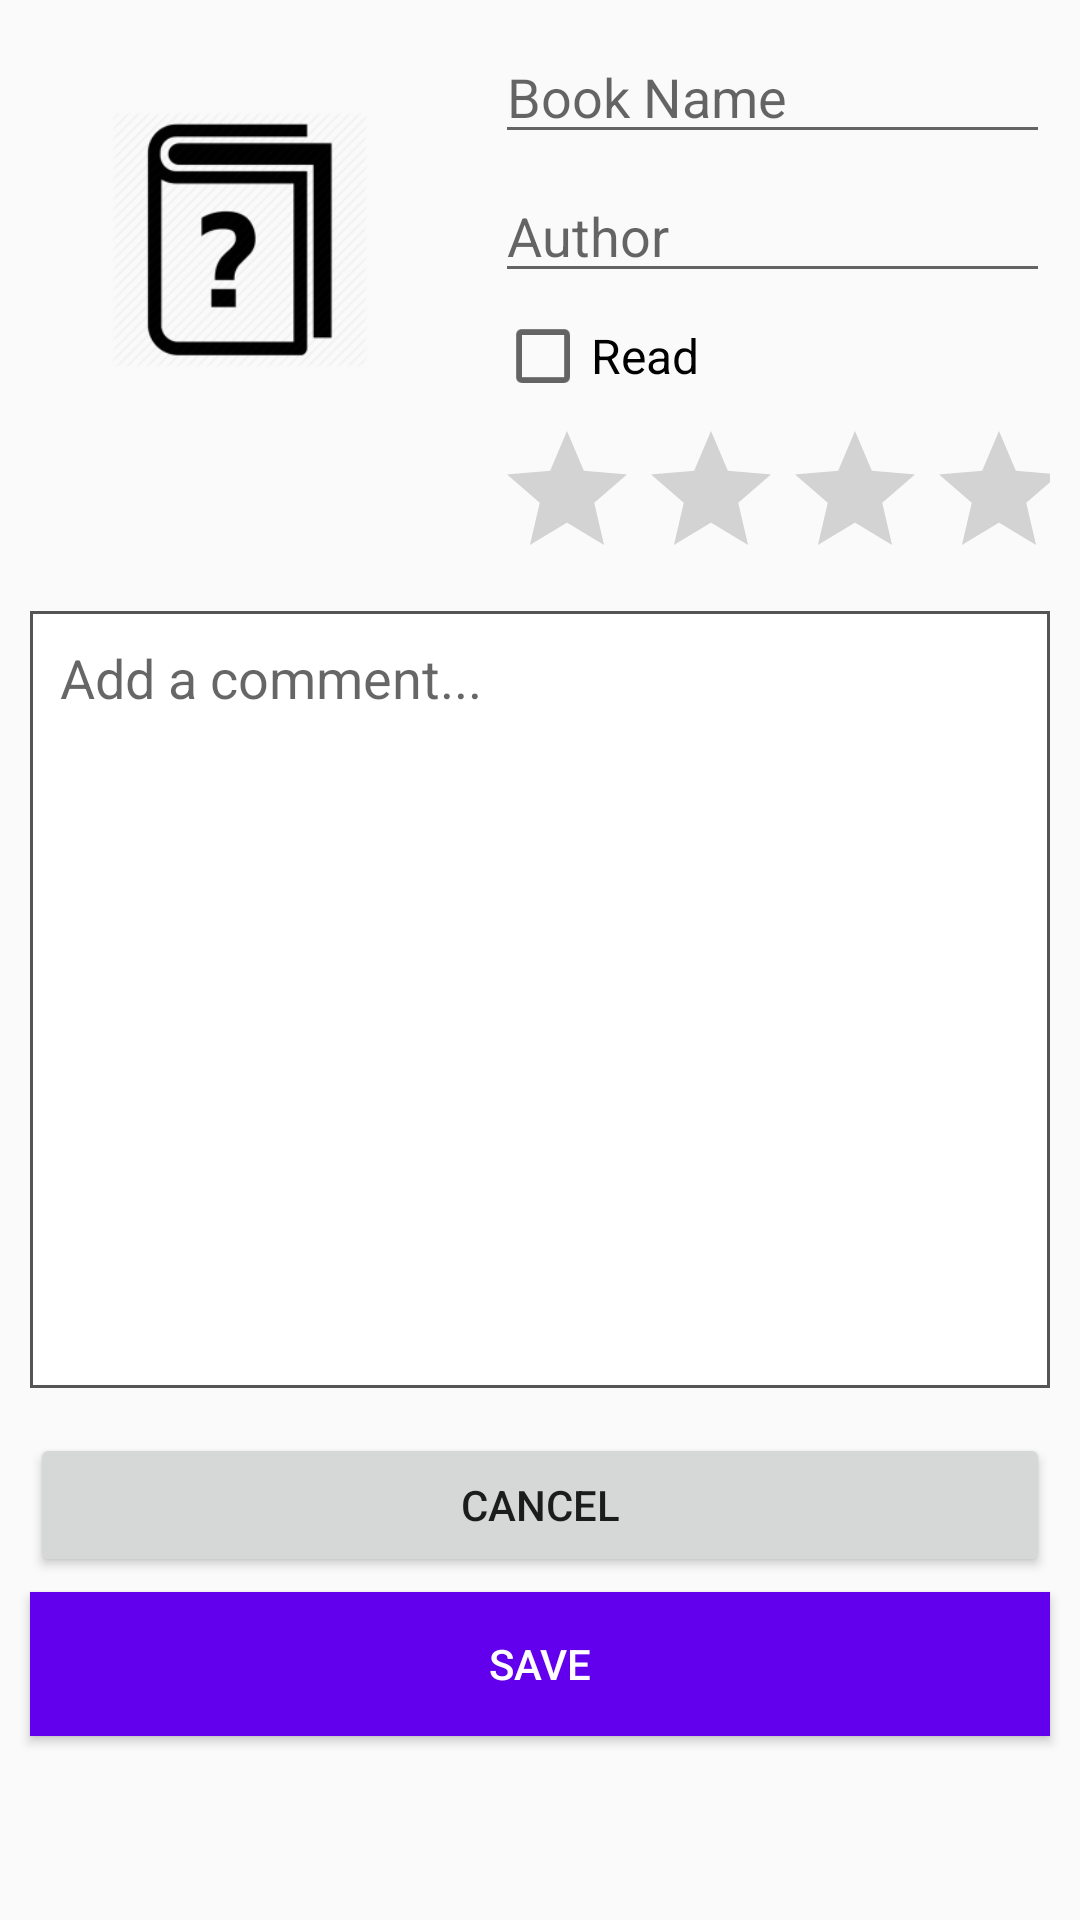

Screen size 1080px x 1920px. Icon name, then its box in pixels as {"x1": x1, "y1": y1, "x2": x2, "y2": y2}:
book unknown: {"x1": 147, "y1": 123, "x2": 333, "y2": 356}
